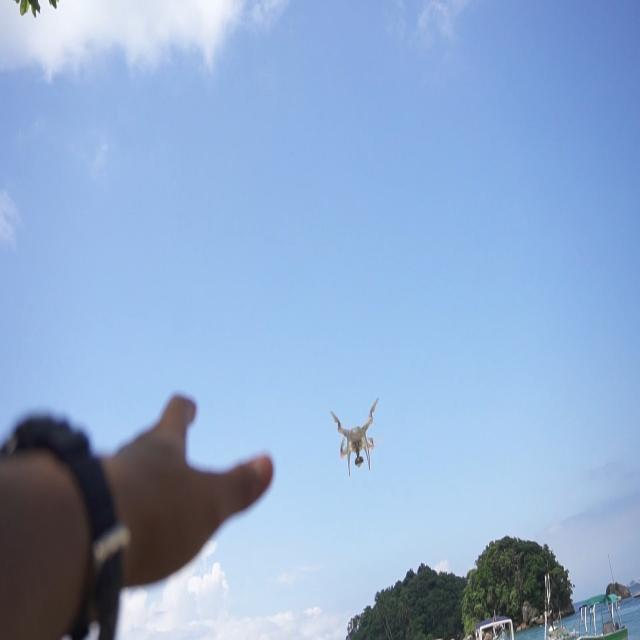Drone: (324, 406, 386, 479)
